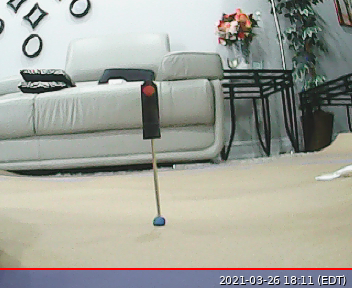Red Traffic Light: (139, 79, 162, 140)
